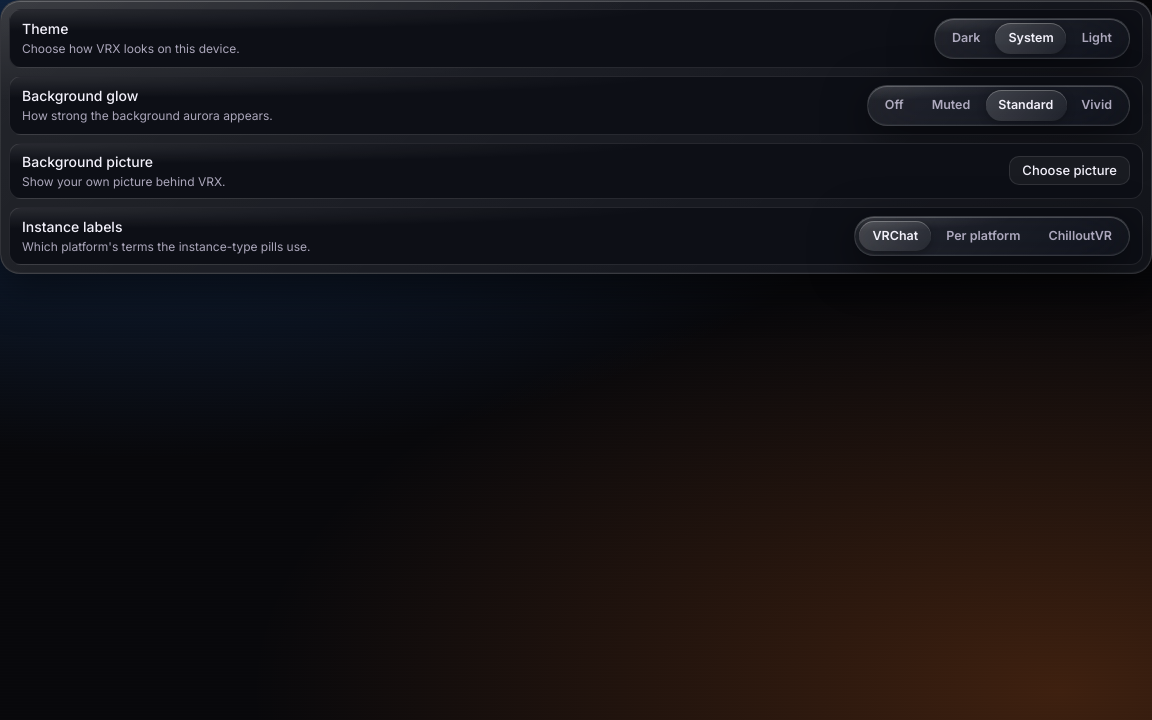
Scenario: SettingsView — background picture › explains a picture refused as too-small
Click the button "Choose picture": coordinates (1070, 171) [1009, 156, 1130, 185]
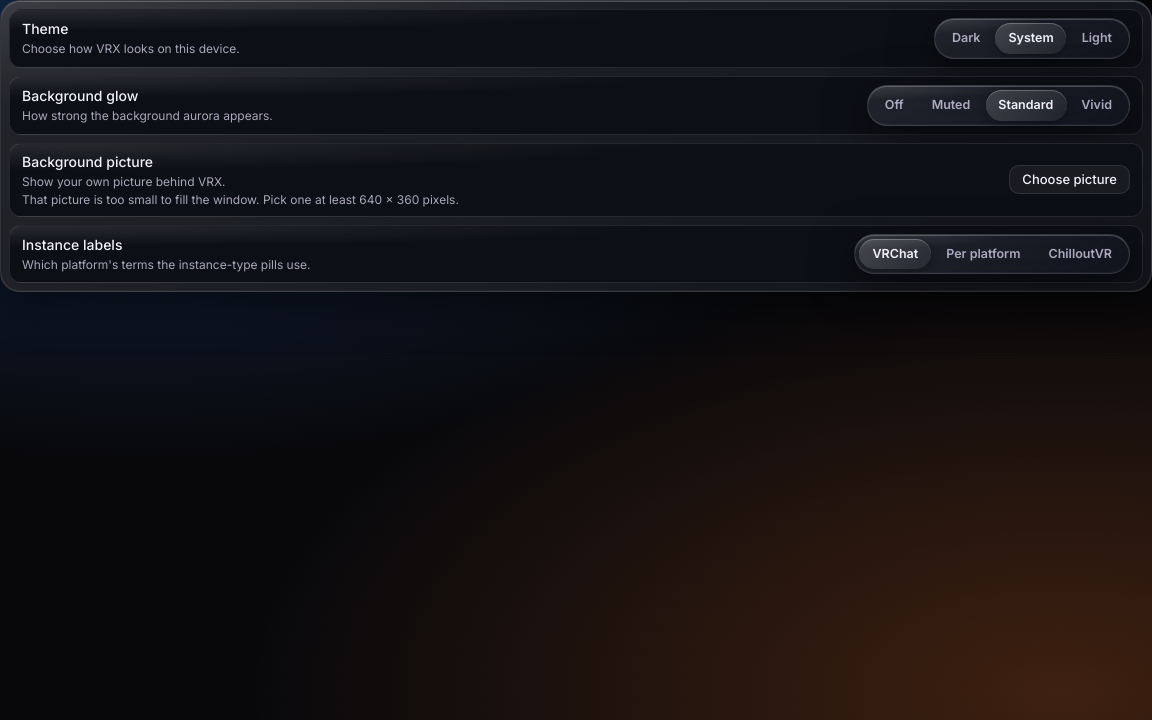
Check: the message shows "That picture is too small to fill the window. Pick one at least 640 × 360 pixels.", box [22, 192, 459, 206]
